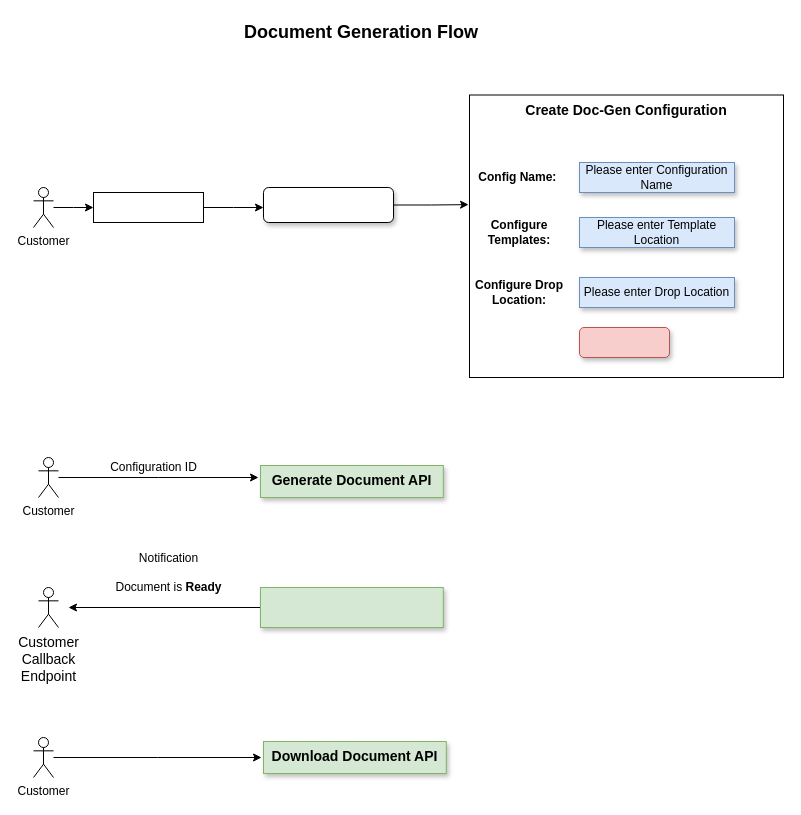
Some shapes in this 801 by 815 pixel diagram are drawn without their labels. The shapes that lost their labels are listed below. From the top down, each one's centre as x and y in pixels, then its label:
point (148, 207): Logic Console UI
point (329, 206): Create Subscription
point (625, 343): Save
point (352, 608): Logic Document Generation
